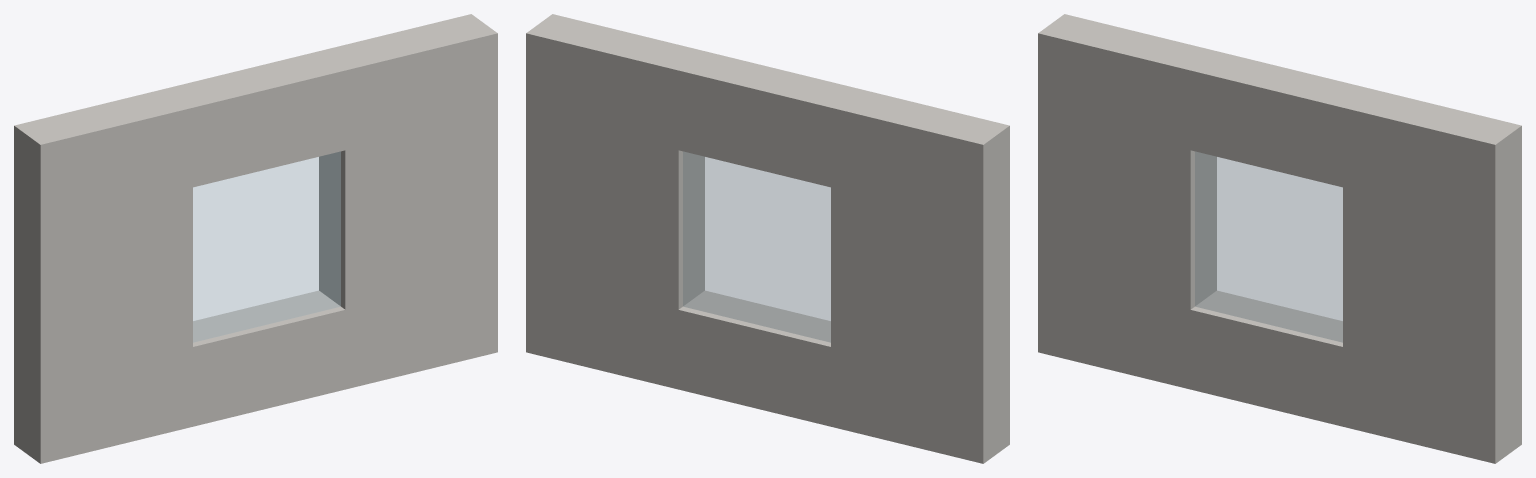
The picture shows the model from 3 angles, left to right: view 1: azimuth 30°, elevation 25°; view 2: azimuth 150°, elevation 25°; view 3: azimuth 330°, elevation 25°; orthographic projection.
Visible parts, largest first — view 1: 3ZYW59sxj8lei475l7EhLU, 0tA4DSHd50le6Ov9Yu0I9X; view 2: 3ZYW59sxj8lei475l7EhLU, 0tA4DSHd50le6Ov9Yu0I9X; view 3: 3ZYW59sxj8lei475l7EhLU, 0tA4DSHd50le6Ov9Yu0I9X.
Boxes of the visible parts, x1,y1,x2,y2 form: 3ZYW59sxj8lei475l7EhLU: (14,14,497,463); 0tA4DSHd50le6Ov9Yu0I9X: (193,151,340,342); 3ZYW59sxj8lei475l7EhLU: (526,14,1009,463); 0tA4DSHd50le6Ov9Yu0I9X: (683,151,830,342); 3ZYW59sxj8lei475l7EhLU: (1038,14,1521,463); 0tA4DSHd50le6Ov9Yu0I9X: (1195,151,1342,342).
Size of the model in its own units: 3 by 2 by 0.3.
